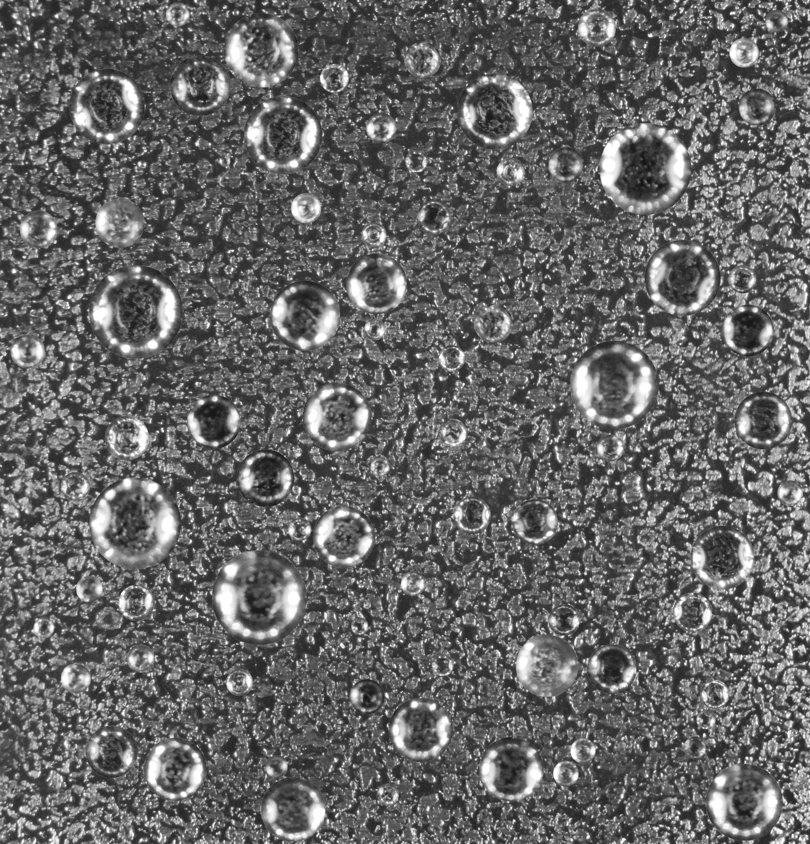Bubble: (212, 550, 306, 644), (89, 265, 182, 358), (599, 123, 691, 214), (89, 477, 180, 569), (570, 340, 658, 429), (244, 96, 322, 174), (706, 764, 782, 840), (644, 239, 720, 315), (457, 73, 532, 149), (69, 68, 144, 144), (224, 13, 298, 87), (270, 280, 340, 350), (302, 382, 371, 451), (690, 525, 754, 589), (261, 777, 325, 841), (479, 737, 543, 801), (388, 698, 452, 761), (143, 738, 206, 800), (516, 634, 578, 696), (313, 506, 374, 567), (346, 253, 406, 314), (170, 55, 230, 115), (734, 391, 792, 449), (236, 449, 294, 506), (186, 394, 240, 448), (722, 304, 773, 356), (85, 726, 137, 777), (587, 644, 636, 693), (95, 198, 144, 247), (512, 499, 557, 544), (104, 416, 148, 460), (673, 592, 712, 631), (474, 303, 512, 342), (453, 496, 490, 534), (19, 210, 57, 247), (578, 8, 615, 46), (738, 88, 775, 125), (404, 41, 440, 77), (548, 147, 584, 182), (118, 585, 154, 620), (349, 679, 384, 714), (10, 334, 44, 368), (416, 200, 450, 234), (548, 604, 579, 635), (366, 113, 396, 143), (60, 663, 90, 693), (291, 193, 321, 223), (729, 38, 758, 67), (60, 472, 89, 501), (700, 680, 729, 708), (320, 63, 348, 92), (496, 157, 524, 185), (438, 418, 466, 446), (728, 265, 756, 293), (126, 644, 154, 672), (597, 434, 623, 461), (226, 669, 252, 695), (76, 576, 102, 602), (438, 345, 464, 371), (777, 480, 803, 505), (570, 738, 595, 763), (553, 761, 578, 786), (361, 222, 386, 247), (401, 571, 425, 595), (165, 2, 189, 26), (288, 517, 311, 540), (765, 9, 787, 32), (265, 755, 287, 777), (376, 783, 398, 805), (684, 736, 706, 758), (405, 150, 427, 172), (431, 654, 453, 676), (364, 318, 385, 340), (33, 617, 54, 638), (696, 710, 715, 729), (370, 457, 389, 476), (351, 617, 368, 634), (219, 155, 230, 166), (719, 171, 728, 180), (348, 331, 357, 340)
